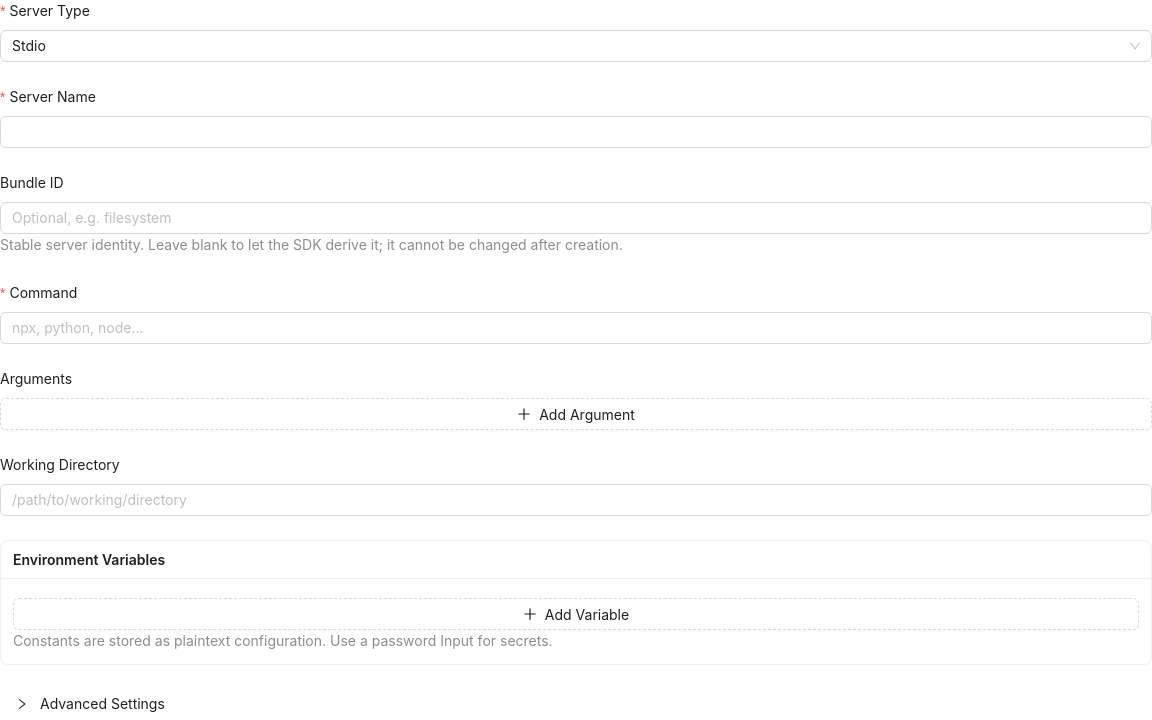
Scenario: McpServerForm technical fields and config value sources › shows a Command preview failure returned by the SDK
The width and height of the screenshot is (1152, 720).
Click the button "Add Variable": [576, 614] box [13, 598, 1139, 630]
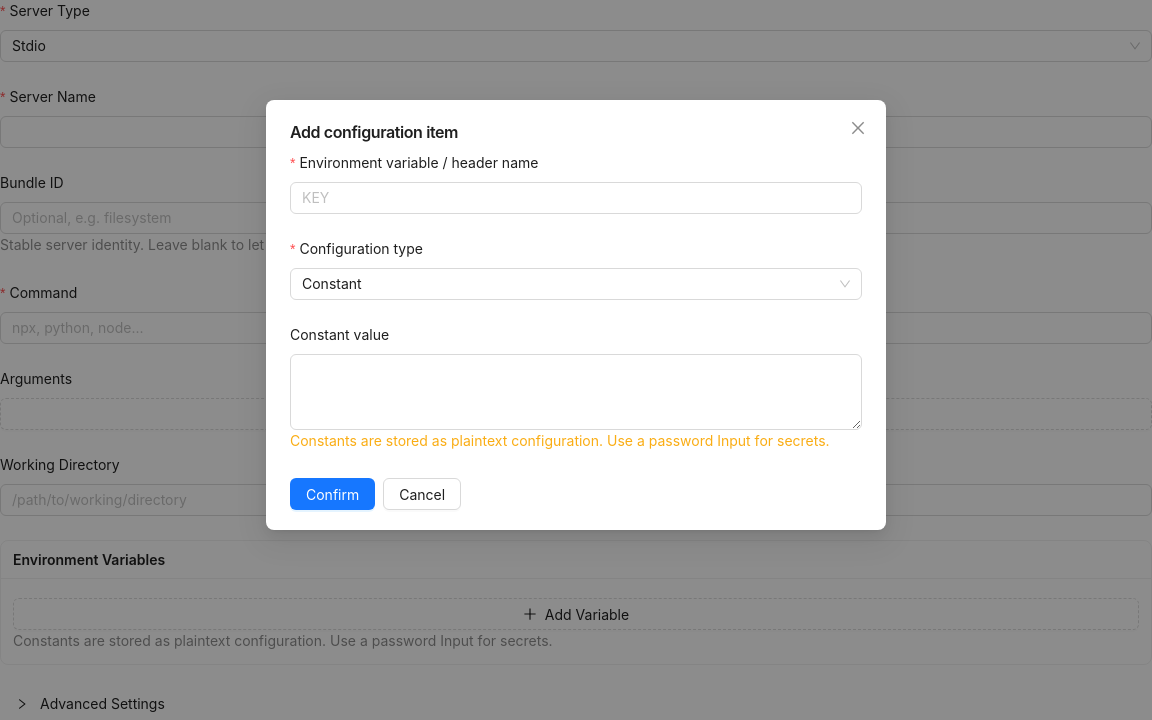
Press the mouse on the dropdown labelled "Configuration type": [361, 248] box [300, 240, 423, 257]
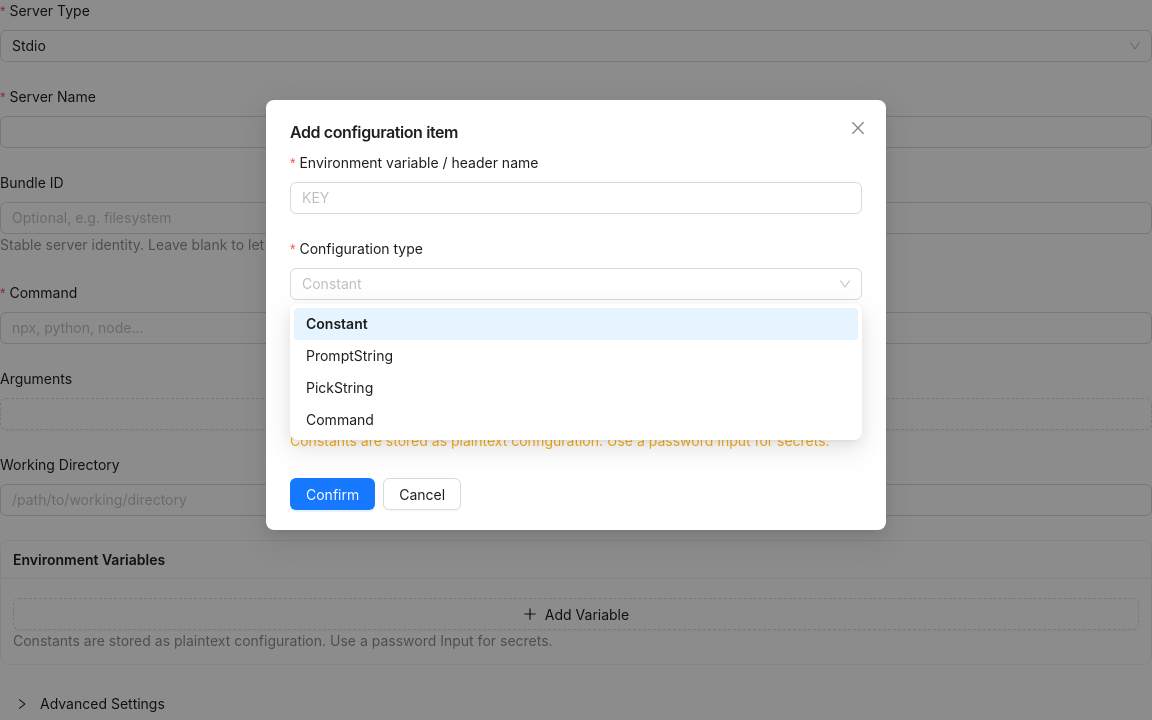
Click the option "Command": [340, 420] box [306, 411, 374, 428]
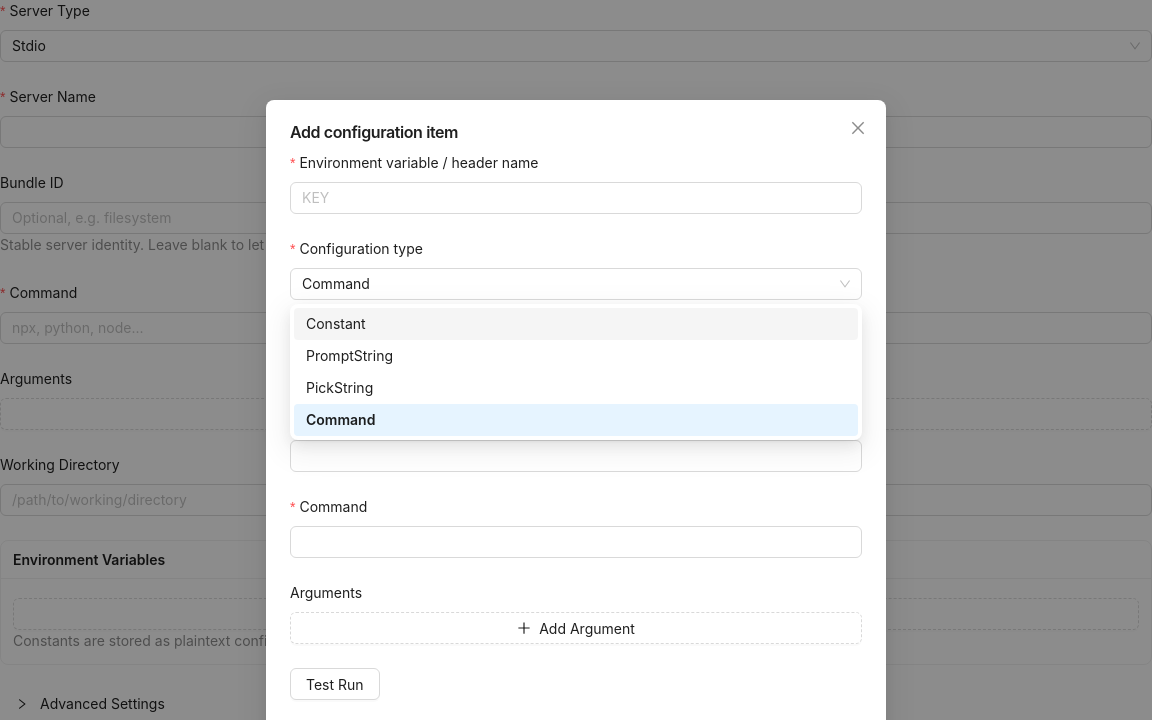
In the field labelled "Command": [576, 542] box [290, 526, 862, 558], type "exit 7"
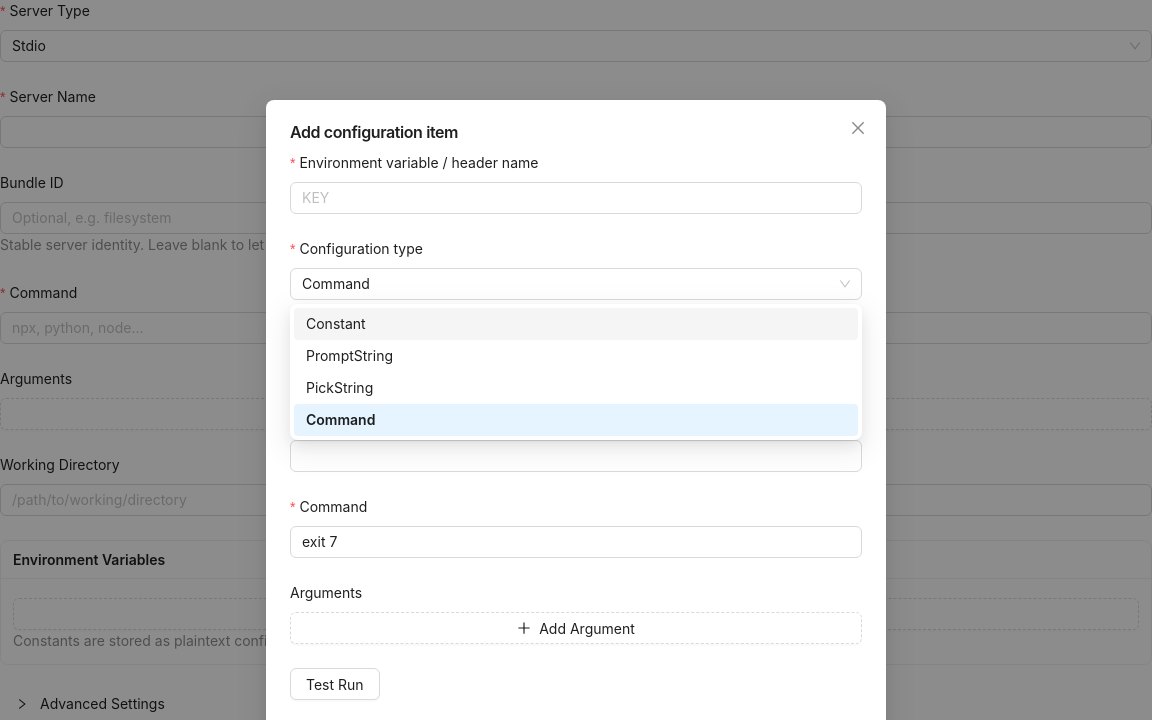
Click the button "Test Run": [335, 684] box [290, 668, 380, 700]
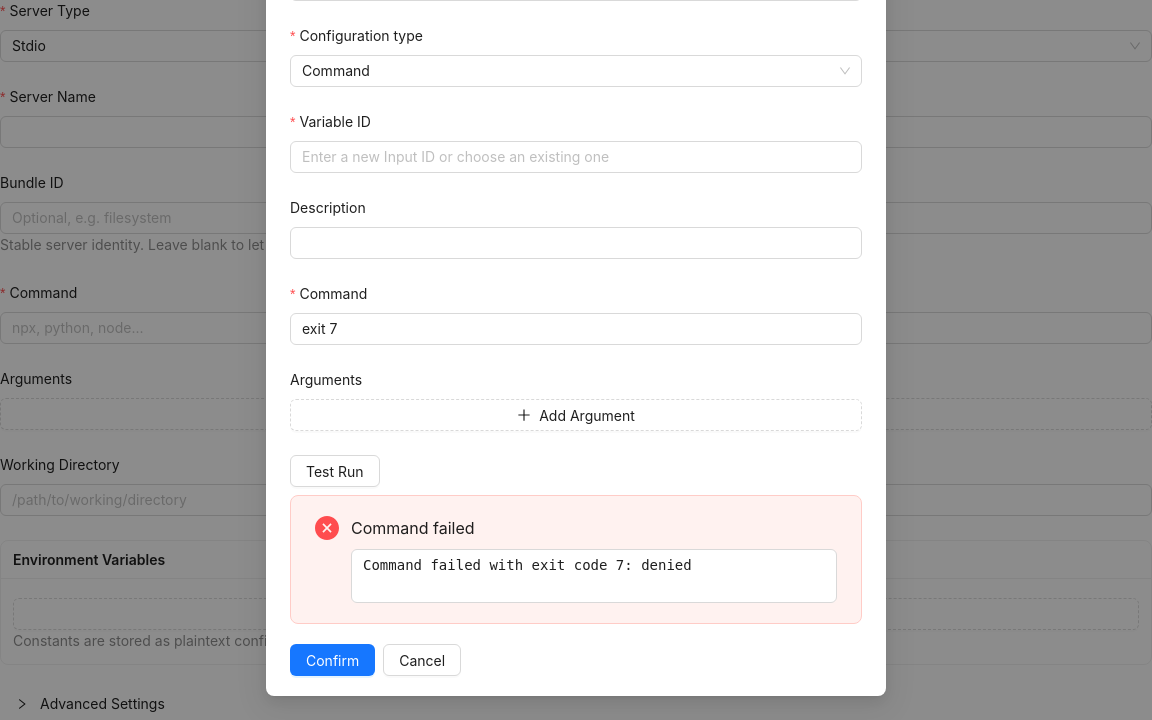
Result: the text "Command failed" is shown at [351, 518, 475, 538]
Result: the text box showing "Command failed with exit code 7: denied" is shown at [351, 549, 837, 603]
